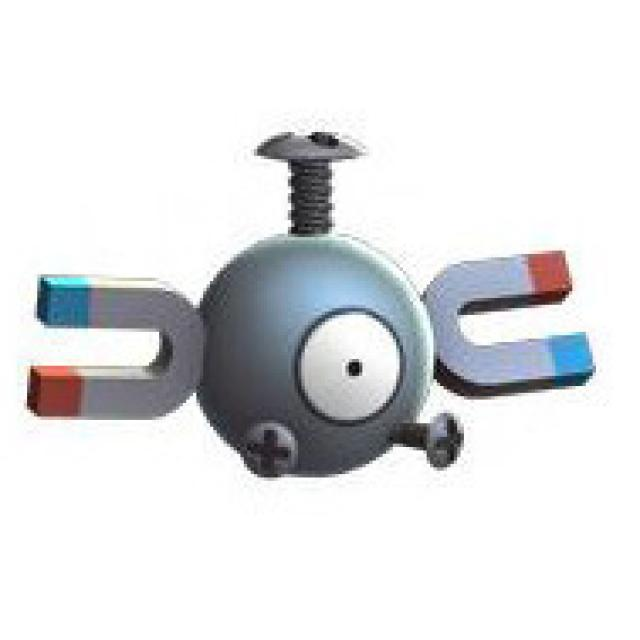Magnemite: (35, 135, 596, 484)
